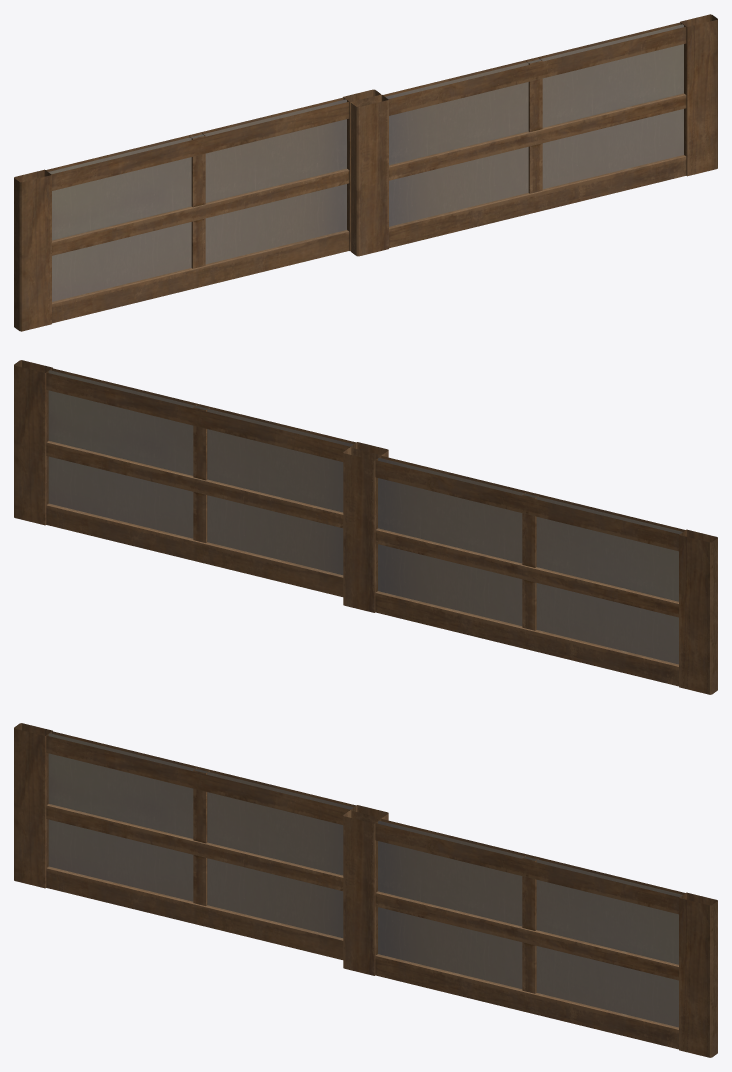
Rendered from Door_B_Top_Window.fbx.
3 views of the same model, one above another, from view 1: azimuth 30°, elevation 25°; view 2: azimuth 150°, elevation 25°; view 3: azimuth 330°, elevation 25° (orthographic). The views are drawn at different scales.
Visible parts, largest first — view 1: Door_B_Top_Window; view 2: Door_B_Top_Window; view 3: Door_B_Top_Window.
Part boxes in pixels (x1,y1,x2,y2): Door_B_Top_Window: [14, 14, 717, 331]; Door_B_Top_Window: [14, 360, 717, 694]; Door_B_Top_Window: [14, 723, 717, 1057].
Bounding box in the file's own units: 219 × 45.19 × 8.
Materials: 1 (1 with a texture image).
